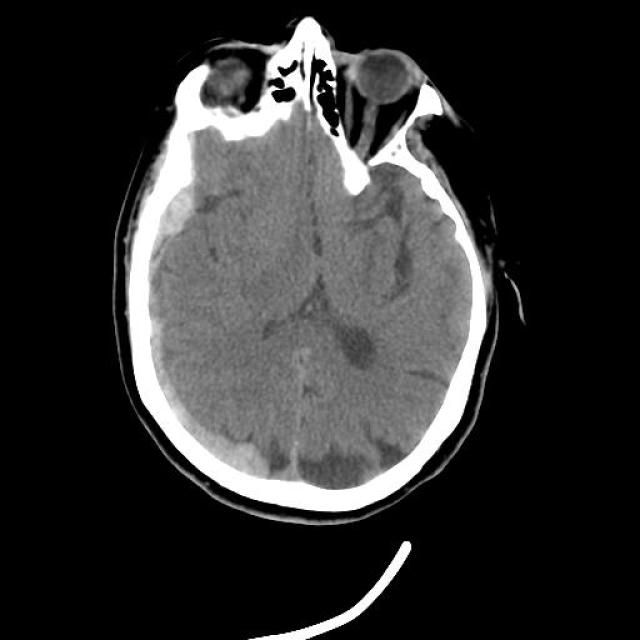Subdural: (92, 170, 296, 514)
